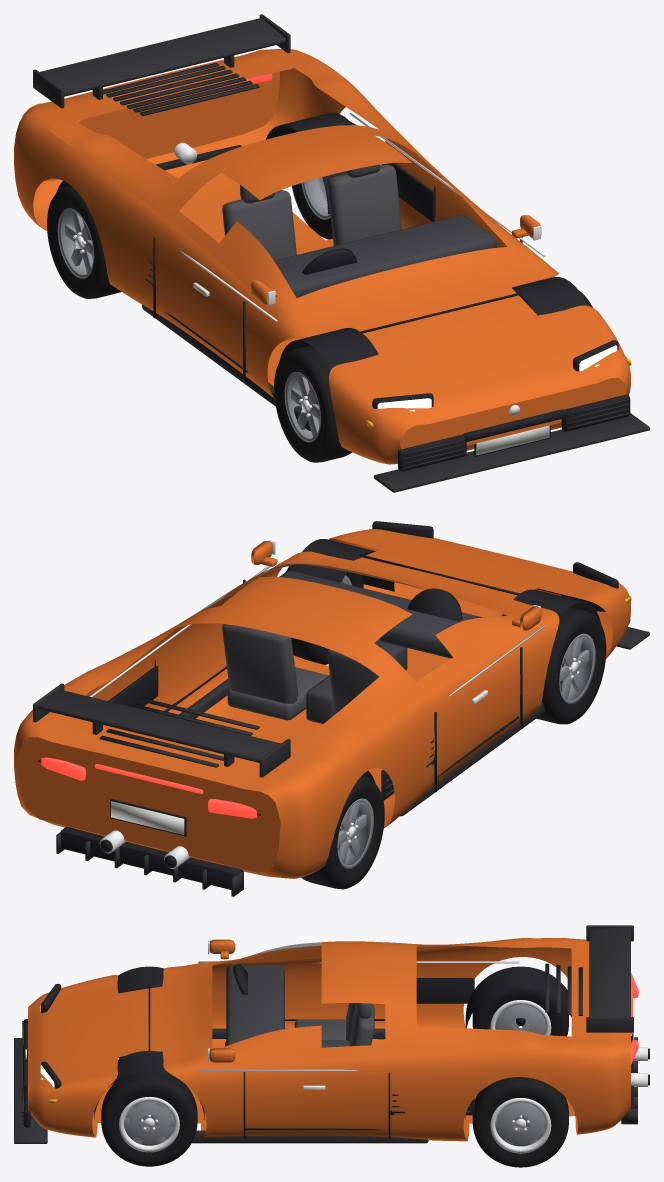
Rendered from car_02_sport.glb.
3 renders of one model, top to bottom at view 1: azimuth 30°, elevation 25°; view 2: azimuth 150°, elevation 25°; view 3: azimuth 270°, elevation 25°, orthographic. The views are drawn at different scales.
Visible parts, largest first — view 1: Body, Details, Cabin, Interior, Wheel_FL_Mesh, Wheel_RL_Mesh, Wheel_RR_Mesh; view 2: Body, Details, Cabin, Interior, Wheel_FL_Mesh, Wheel_RL_Mesh, Wheel_FR_Mesh; view 3: Body, Details, Cabin, Wheel_FR_Mesh, Wheel_RR_Mesh, Interior, Wheel_RL_Mesh.
Part boxes in pixels (left/top/right/bottom): Body: left=14, top=48, right=630, bottom=464; Details: left=33, top=14, right=649, bottom=492; Cabin: left=50, top=63, right=526, bottom=308; Interior: left=222, top=164, right=496, bottom=297; Wheel_FL_Mesh: left=274, top=345, right=351, bottom=462; Wheel_RL_Mesh: left=47, top=185, right=121, bottom=298; Wheel_RR_Mesh: left=291, top=122, right=356, bottom=239; Body: left=14, top=529, right=630, bottom=878; Details: left=33, top=521, right=649, bottom=896; Cabin: left=64, top=563, right=525, bottom=763; Interior: left=222, top=571, right=482, bottom=723; Wheel_FL_Mesh: left=536, top=607, right=606, bottom=724; Wheel_RL_Mesh: left=301, top=775, right=384, bottom=889; Wheel_FR_Mesh: left=286, top=565, right=363, bottom=664; Body: left=28, top=938, right=630, bottom=1141; Details: left=14, top=925, right=649, bottom=1143; Cabin: left=212, top=938, right=571, bottom=1065; Wheel_FR_Mesh: left=101, top=1071, right=197, bottom=1166; Wheel_RR_Mesh: left=472, top=1077, right=568, bottom=1167; Interior: left=225, top=964, right=374, bottom=1047; Wheel_RL_Mesh: left=472, top=987, right=568, bottom=1036.
Bounding box in the file's own units: 2.07 × 1.16 × 4.56.
